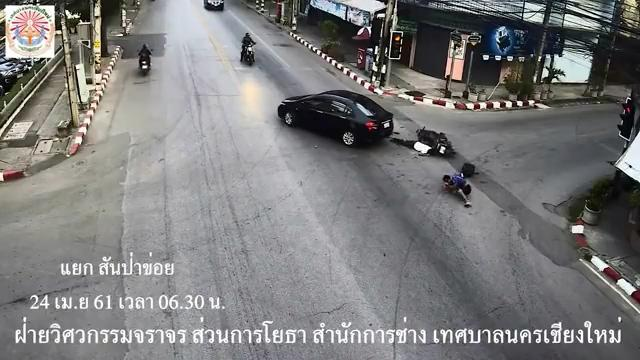accident: (442, 170, 476, 209)
